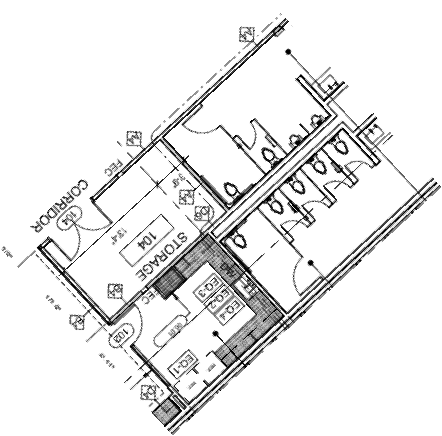door: (112, 299, 147, 349), (292, 251, 326, 298), (182, 100, 221, 139), (278, 214, 310, 245), (231, 120, 261, 151), (343, 157, 378, 183), (302, 194, 330, 225), (320, 178, 353, 204)
double door: (45, 196, 118, 259)
